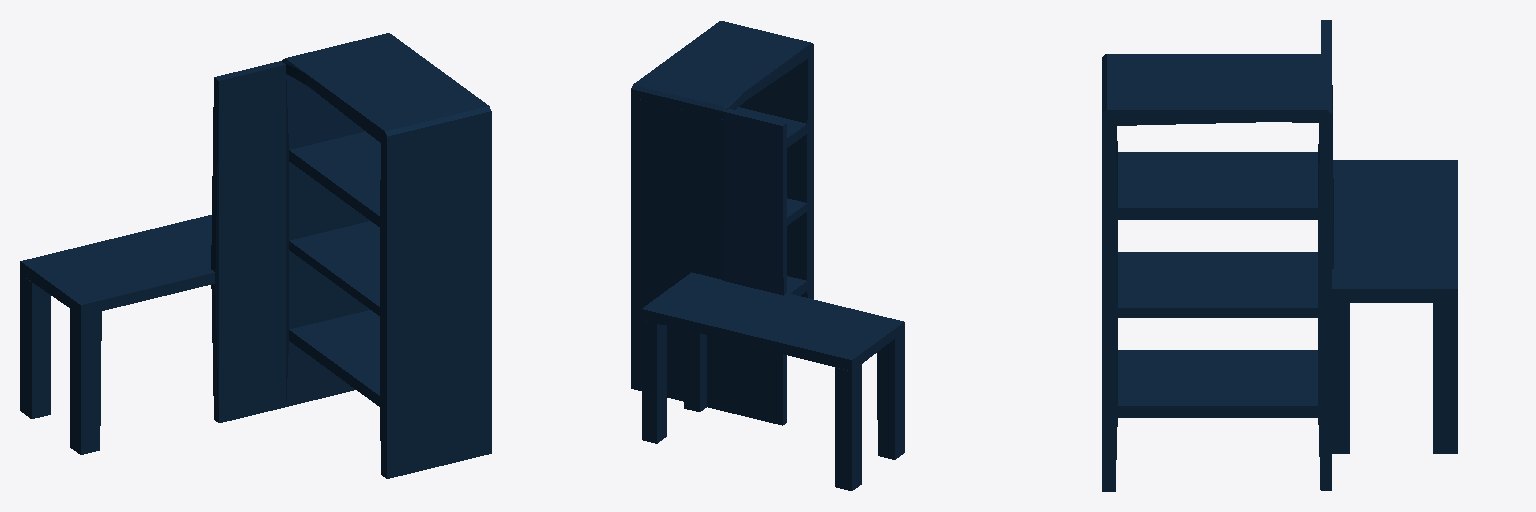
robot.urdf — bookshelves_table:
<?xml version="1.0" ?>

<robot name="bookshelves_table">
    <material name="Brown">
        <color rgba="0.1 0.2 0.3 1"/>
    </material>
    <link name="bookshelf" type="static">
        <contact>
            <lateral_friction value="100000.0"/>
            <rolling_friction value="0.0"/>
        </contact>
        <inertial>
            <mass value="0"/>
            <inertia ixx="0" ixy="0" ixz="0" iyy="0" iyz="0" izz="0"/>
        </inertial>


        <visual>
            <geometry>
                <mesh filename="lab.obj"/>
            </geometry>
            <material name="Brown"/>
        </visual>
        <collision>
            <geometry>
                <mesh filename="lab.obj"/>
            </geometry>
        </collision>
    </link>
</robot>

--- What the picture shows (computed from the rendered views, not written in the file) ---
3 views of the same robot in one strip: view 1: azimuth 30°, elevation 25°; view 2: azimuth 150°, elevation 25°; view 3: azimuth 270°, elevation 25° (orthographic).
Model bookshelves_table with 1 links and 0 joints (none), rooted at bookshelf, posed every joint at zero.
Links seen in each view (by area): view 1: bookshelf; view 2: bookshelf; view 3: bookshelf.
Boxes of the visible links, x1,y1,x2,y2 form: bookshelf: [20, 33, 491, 478]; bookshelf: [631, 21, 904, 490]; bookshelf: [1102, 20, 1457, 491].
Bounding box of the posed robot: 1.81 × 1.64 × 1.94 m (x, y, z).
Meshes: 1 distinct files referenced, 1 mesh visuals loaded (1 OBJ).
